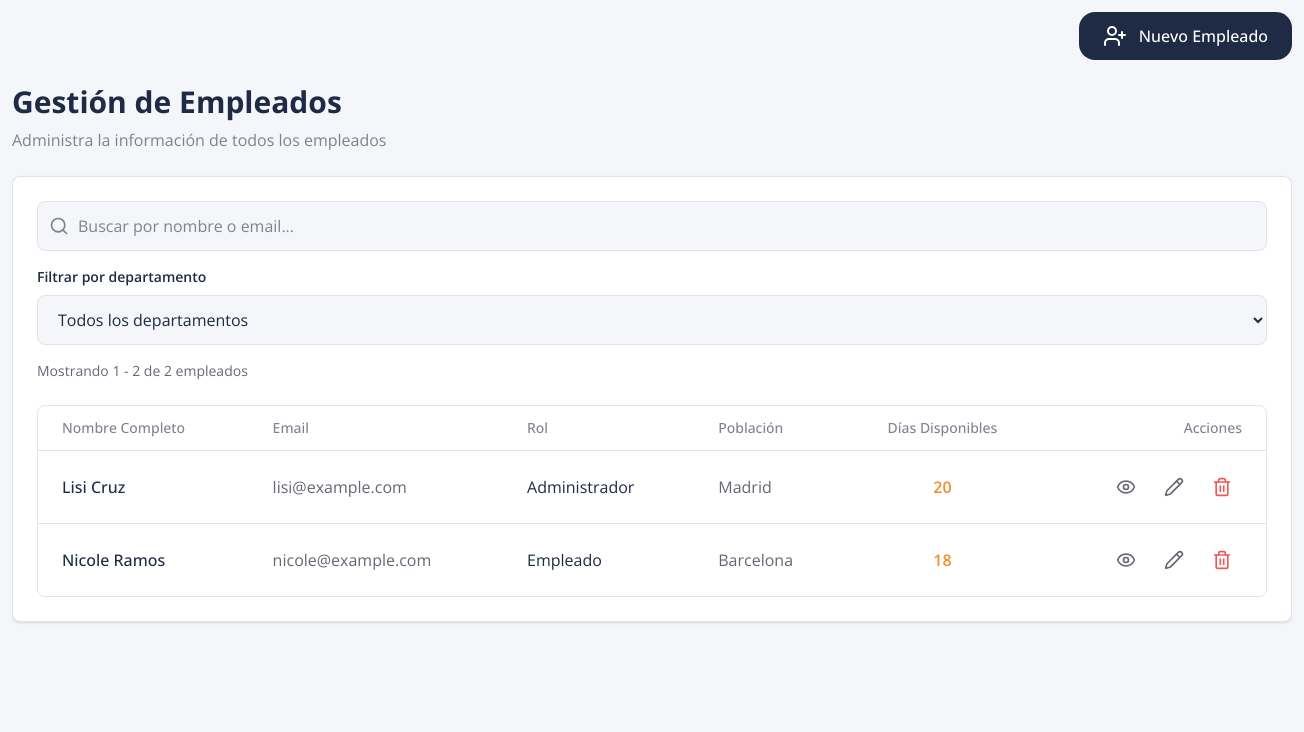
Test: 📋 EmployeeListPage › filtra los empleados por nombre
The image size is (1304, 732).
// Simulamos escribir el nombre
In the field named "buscar empleado": (652, 226) 37,201 -> 1267,251, type "Lisi"
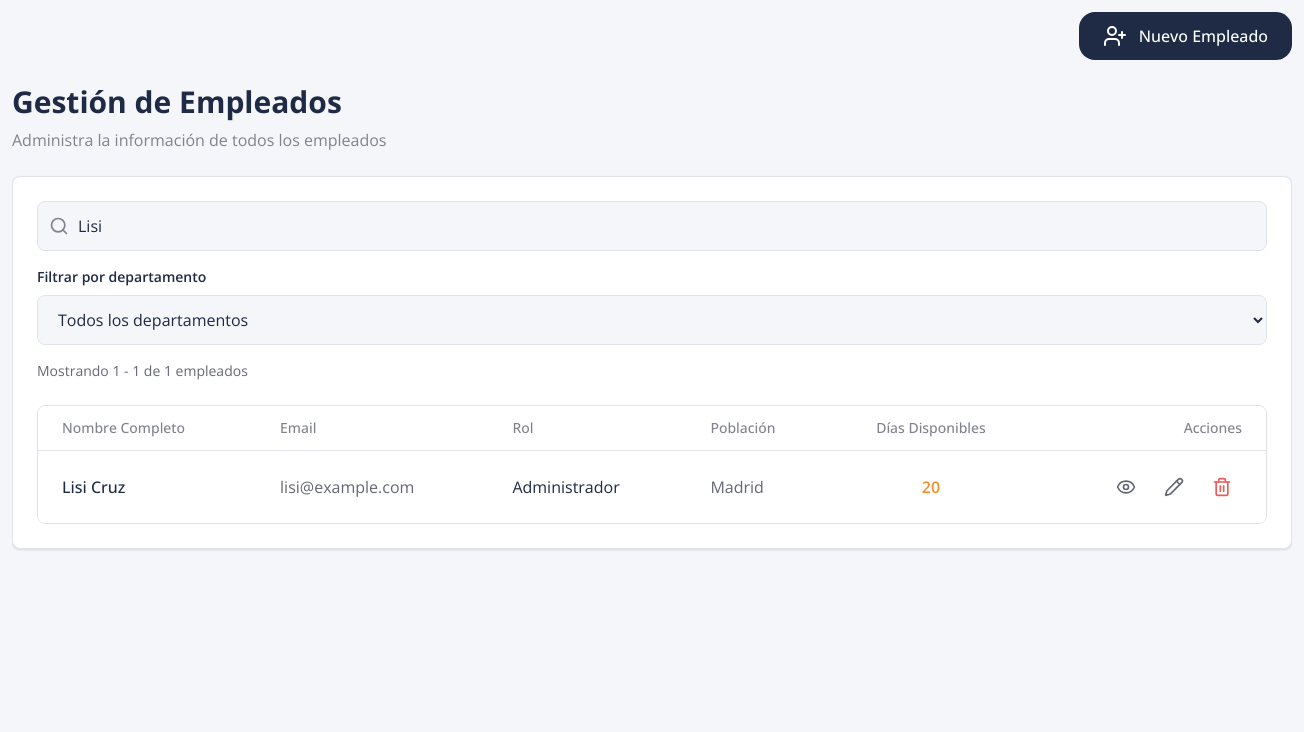
Check: the text "Lisi Cruz" is shown, box 62,476 -> 125,498
Check: the text "Nicole" is not shown
